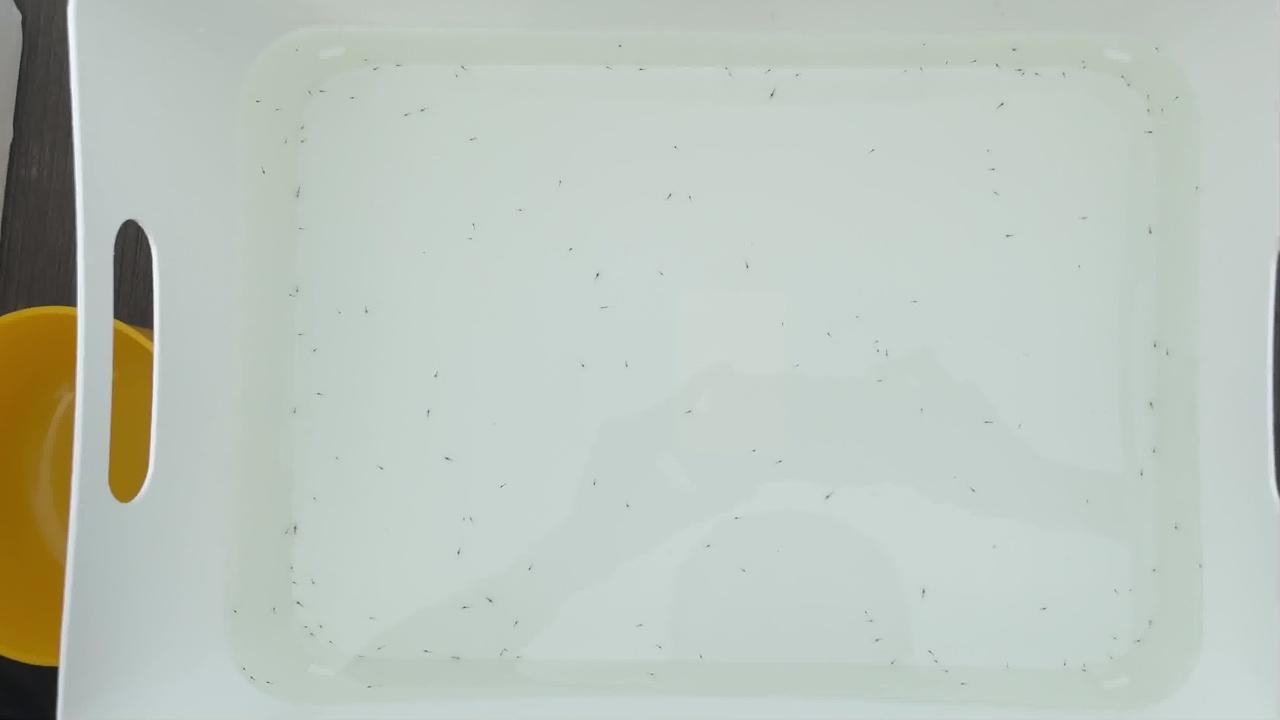shrimp: (361, 57, 374, 65), (451, 74, 464, 82), (296, 124, 309, 132), (296, 224, 309, 232), (291, 285, 304, 293), (913, 68, 926, 76), (1143, 107, 1156, 115), (985, 418, 998, 426), (577, 362, 590, 370), (496, 484, 509, 492), (295, 600, 308, 608), (238, 661, 251, 669), (587, 478, 600, 486), (728, 517, 741, 525), (919, 589, 932, 597), (1110, 589, 1123, 597), (1125, 589, 1138, 597), (1168, 523, 1181, 531), (987, 545, 1000, 553), (468, 223, 480, 231), (900, 68, 912, 76), (1149, 445, 1161, 453), (286, 562, 298, 570), (249, 97, 262, 104), (292, 47, 305, 54), (303, 90, 316, 97), (314, 88, 327, 95), (369, 66, 382, 73), (343, 96, 356, 103), (417, 108, 430, 115), (458, 65, 471, 72), (282, 139, 295, 146), (255, 170, 268, 177), (290, 188, 303, 195), (466, 236, 479, 243), (554, 181, 567, 188), (464, 137, 477, 144), (604, 66, 617, 73), (615, 44, 628, 51), (638, 67, 651, 74), (722, 64, 735, 71), (723, 73, 736, 80), (763, 68, 776, 75), (792, 74, 805, 81), (763, 95, 776, 102), (670, 145, 683, 152), (661, 195, 674, 202), (683, 196, 696, 203), (942, 61, 955, 68), (967, 61, 980, 68), (992, 63, 1005, 70), (1010, 46, 1023, 53), (1014, 66, 1027, 73), (1021, 74, 1034, 81), (995, 103, 1008, 110), (1033, 71, 1046, 78), (1079, 64, 1092, 71), (1151, 47, 1164, 54), (1112, 74, 1125, 81), (1121, 82, 1134, 89), (1158, 107, 1171, 114), (1172, 96, 1185, 103), (1192, 183, 1205, 190), (1142, 229, 1155, 236), (1078, 215, 1091, 222), (1002, 234, 1015, 241), (989, 188, 1002, 195), (985, 166, 998, 173), (1150, 342, 1163, 349), (1163, 351, 1176, 358), (1145, 403, 1158, 410), (1134, 475, 1147, 482), (1014, 423, 1027, 430), (915, 406, 928, 413), (872, 377, 885, 384), (883, 350, 896, 357), (871, 351, 884, 358), (871, 341, 884, 348), (849, 314, 862, 321), (912, 299, 925, 306), (1074, 265, 1087, 272), (742, 262, 755, 269), (774, 320, 787, 327), (825, 333, 838, 340), (792, 361, 805, 368), (679, 408, 692, 415), (619, 360, 632, 367), (598, 305, 611, 312), (592, 270, 605, 277), (566, 246, 579, 253), (660, 272, 673, 279), (361, 308, 374, 315), (333, 311, 346, 318), (287, 292, 300, 299), (296, 332, 309, 339), (311, 347, 324, 354), (314, 394, 327, 401), (286, 410, 299, 417), (333, 454, 346, 461), (375, 467, 388, 474), (445, 455, 458, 462), (421, 406, 434, 413), (431, 375, 444, 382), (310, 495, 323, 502), (289, 528, 302, 535), (280, 529, 293, 536), (287, 581, 300, 588), (311, 581, 324, 588), (269, 609, 282, 616), (246, 674, 259, 681), (265, 681, 278, 688), (301, 623, 314, 630), (306, 633, 319, 640), (317, 622, 330, 629), (325, 640, 338, 647), (367, 614, 380, 621), (378, 644, 391, 651), (365, 684, 378, 691), (423, 648, 436, 655), (451, 658, 464, 665), (497, 647, 510, 654), (515, 655, 528, 662), (509, 620, 522, 627), (482, 599, 495, 606), (456, 607, 469, 614), (459, 515, 472, 522), (466, 519, 479, 526), (523, 567, 536, 574), (624, 503, 637, 510), (654, 643, 667, 650), (698, 653, 711, 660), (702, 542, 715, 549), (738, 567, 751, 574), (749, 447, 762, 454), (775, 459, 788, 466), (823, 494, 836, 501), (868, 620, 881, 627), (872, 637, 885, 644), (891, 649, 904, 656), (926, 648, 939, 655), (929, 660, 942, 667), (940, 672, 953, 679), (955, 681, 968, 688), (1000, 666, 1013, 673), (1036, 604, 1049, 611), (1064, 664, 1077, 671), (1107, 654, 1120, 661), (1110, 635, 1123, 642), (1131, 644, 1144, 651), (1147, 570, 1160, 577), (965, 487, 978, 494), (274, 107, 286, 114), (391, 62, 403, 69), (402, 112, 414, 119), (297, 137, 309, 144), (513, 207, 525, 214), (867, 146, 879, 153), (1055, 72, 1067, 79), (1078, 60, 1090, 67), (1139, 95, 1151, 102), (1144, 129, 1156, 136), (230, 609, 242, 616), (358, 654, 370, 661), (452, 549, 464, 556), (634, 622, 646, 629), (646, 670, 658, 677), (861, 607, 873, 614), (1077, 668, 1089, 675), (1144, 624, 1156, 631), (1194, 566, 1206, 573), (1083, 499, 1095, 506)
